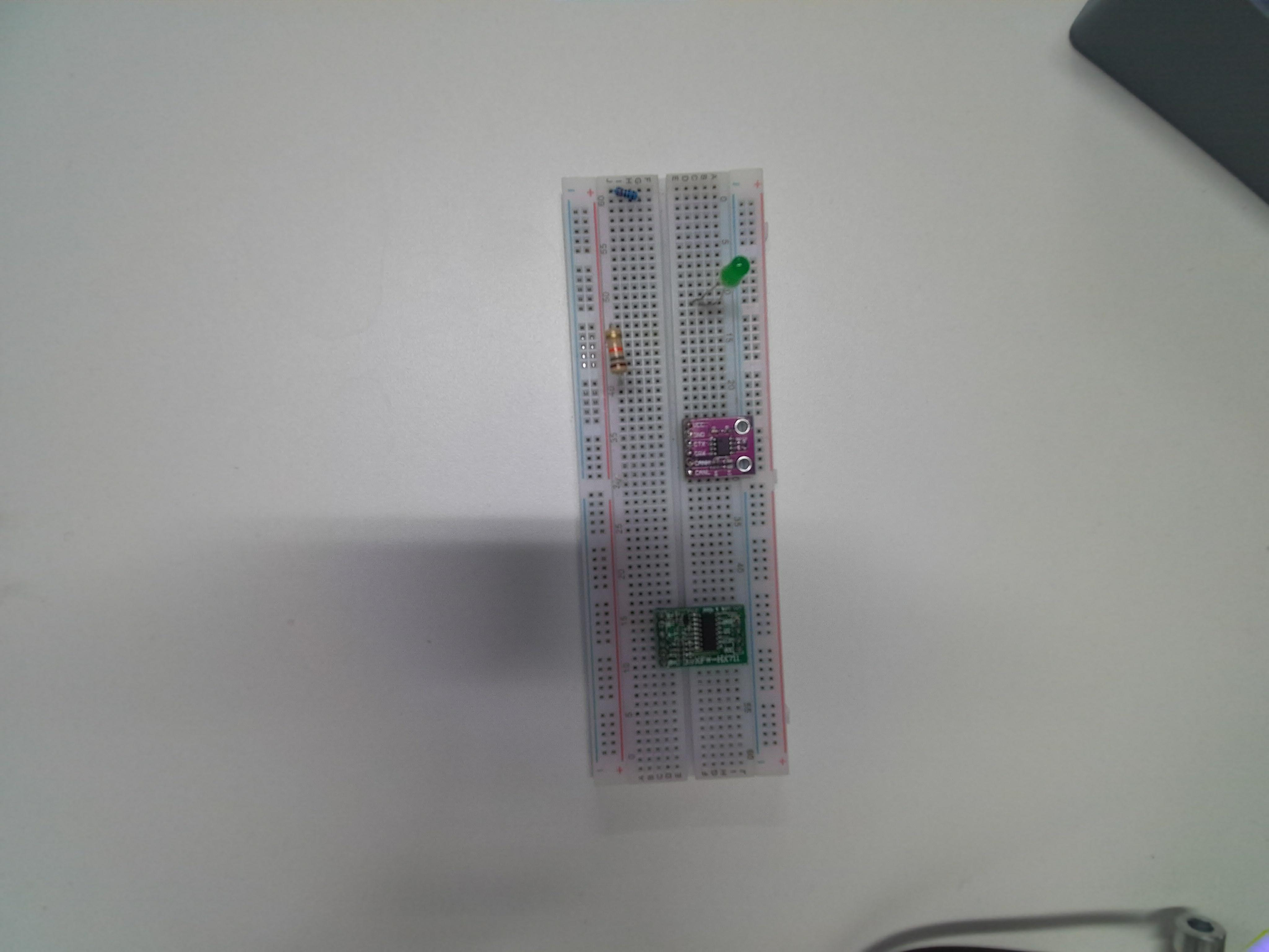base: (559, 167, 788, 790)
green-board: (648, 598, 750, 670)
green-led: (719, 250, 749, 290)
purple-board: (677, 411, 759, 483)
resistor-big: (601, 323, 631, 375)
resistor-small: (610, 183, 640, 207)
